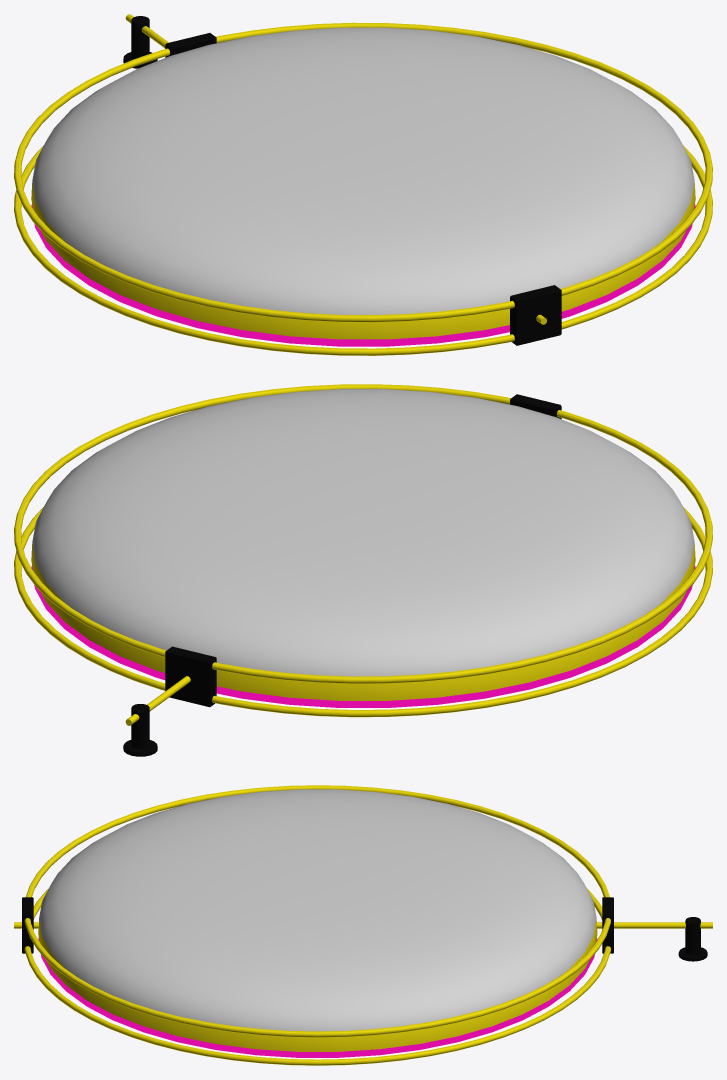
The model's file is CLOCK.fbx.
3 renders of one model, top to bottom at view 1: azimuth 30°, elevation 25°; view 2: azimuth 150°, elevation 25°; view 3: azimuth 270°, elevation 25°, orthographic. The views are drawn at different scales.
Parts seen in each view (by area): view 1: CLOCK, FACE; view 2: CLOCK, FACE; view 3: CLOCK, FACE.
Part boxes in pixels (<box>): CLOCK: <box>14,14,712,355</box>; FACE: <box>31,204,695,346</box>; CLOCK: <box>14,384,712,756</box>; FACE: <box>31,565,695,707</box>; CLOCK: <box>14,785,712,1065</box>; FACE: <box>38,937,597,1057</box>.
Bounding box in the file's own units: 75.8 × 11.23 × 90.
